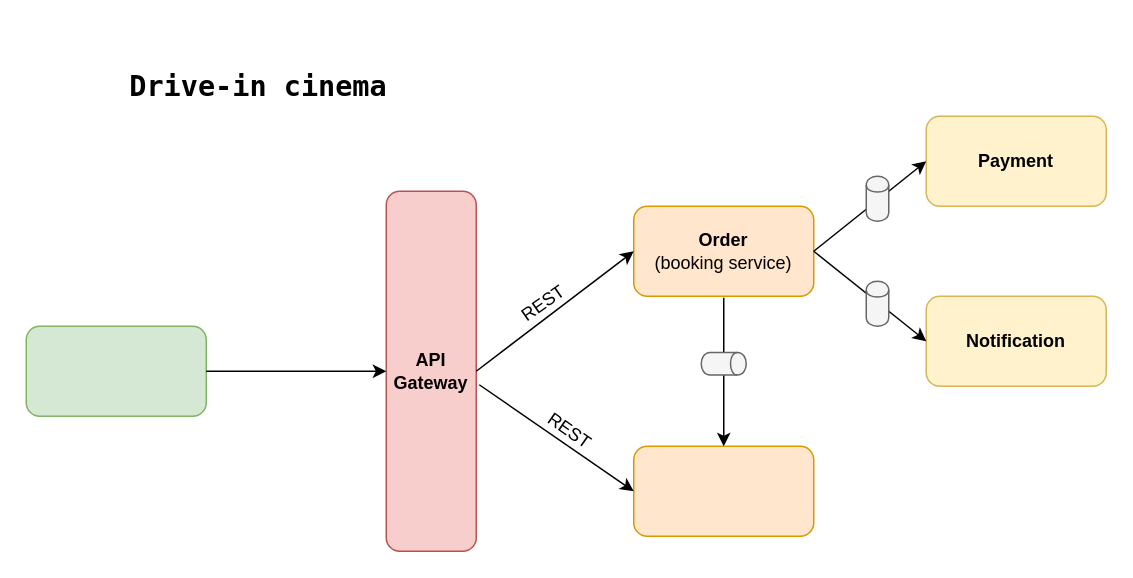
Some shapes in this 1133 by 578 pixel diagram are drawn without their labels. The shapes that lost their labels are listed below. From the top down, each one's centre as x and y in pixels, then its label:
[115,370]: Client UI
[723,490]: Schedule (catalog)
